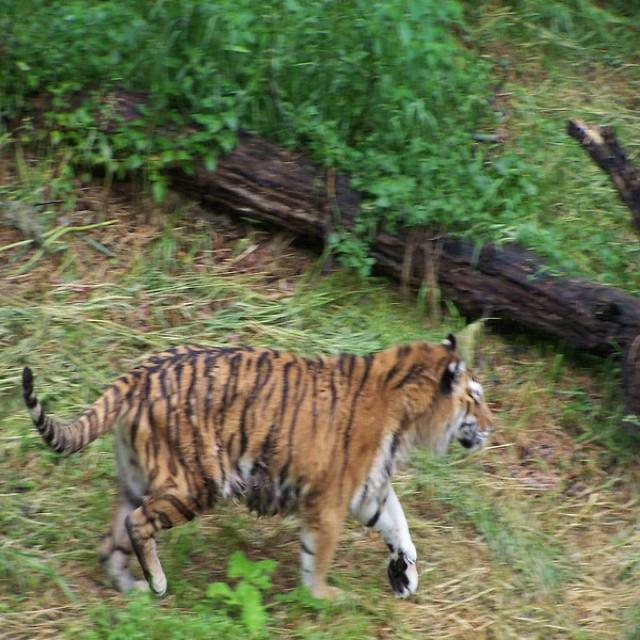Tiger: (21, 332, 495, 599)
